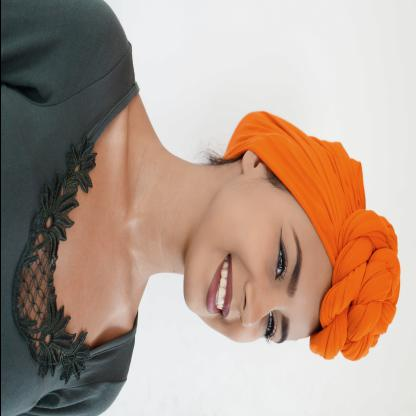Eye: (272, 242, 286, 282), (260, 311, 276, 339)
Mouth: (204, 251, 233, 319)
Nose: (237, 281, 278, 329)
